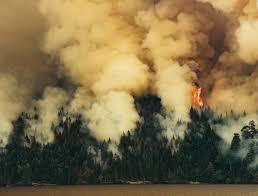fire: (190, 84, 204, 109)
yanwu: (2, 0, 256, 148)
